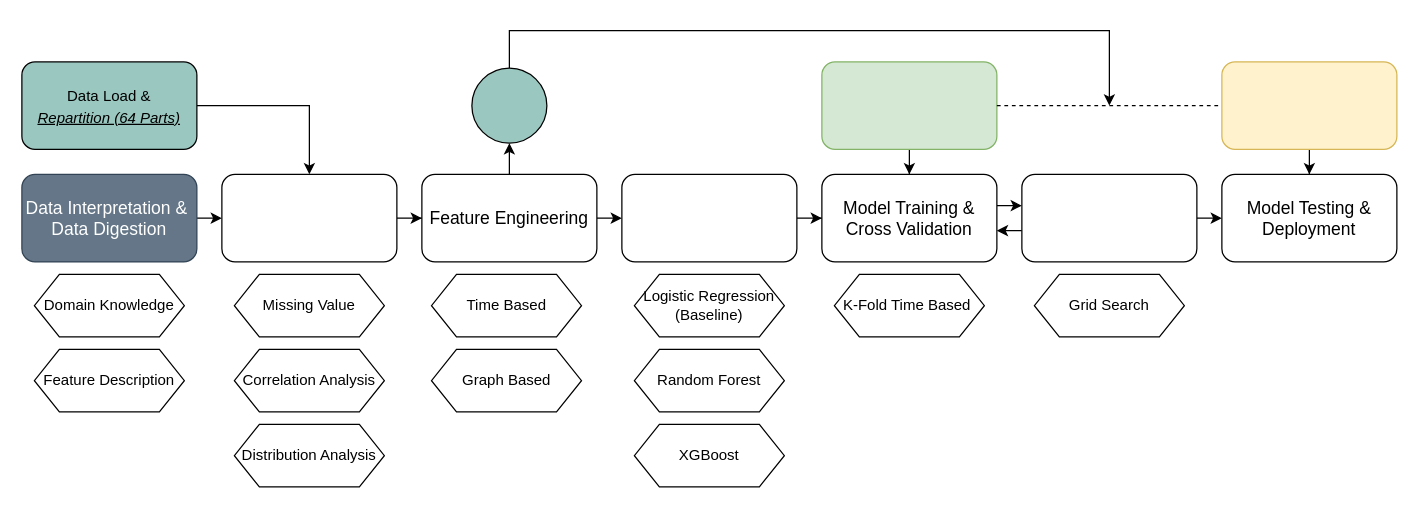
Some shapes in this 1419 by 509 pixel diagram are drawn without their labels. The shapes that lost their labels are listed below. From the top down, each one's box as (x1, y1, x2, y2) in pixels, then its label:
(471, 67, 547, 143): Check point
(821, 61, 997, 149): Training Data Set
(1221, 61, 1397, 149): Blind Data Set
(221, 173, 397, 262): EDA & Data Preprocessing
(621, 173, 797, 262): Model Selection
(1021, 173, 1197, 262): Model Evaluation & Hyperparameter Tuning
